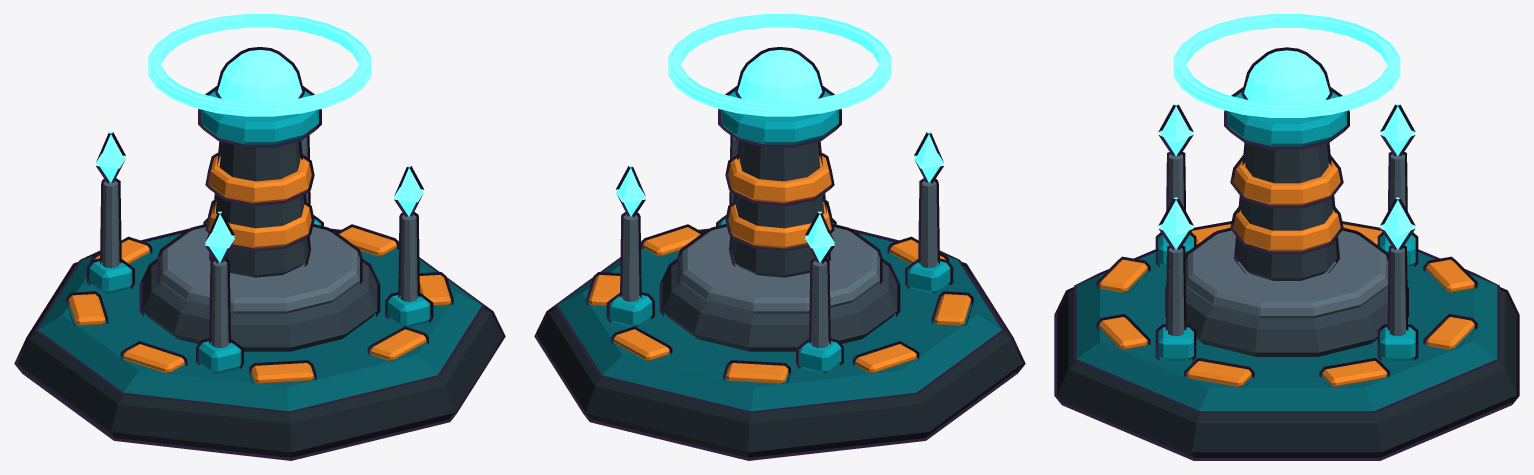
Rendered from ShieldGenerator.glb.
3 views of the same model, side by side, from view 1: azimuth 30°, elevation 25°; view 2: azimuth 150°, elevation 25°; view 3: azimuth 270°, elevation 25° (orthographic).
Parts seen in each view (by area): view 1: ShieldGenerator_GAME_Base; view 2: ShieldGenerator_GAME_Base; view 3: ShieldGenerator_GAME_Base.
Part boxes in pixels (x1,y1,x2,y2): ShieldGenerator_GAME_Base: (14, 14, 505, 460); ShieldGenerator_GAME_Base: (534, 14, 1025, 460); ShieldGenerator_GAME_Base: (1054, 14, 1519, 460).
Size of the model in its own units: 1.84 by 1.37 by 1.84.
